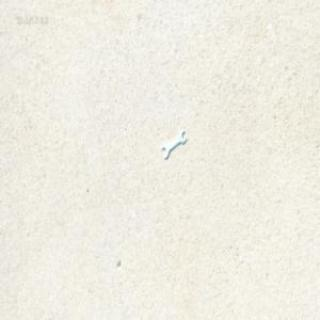Wrenchtrack_idkeyframe: (161, 128, 185, 158)
